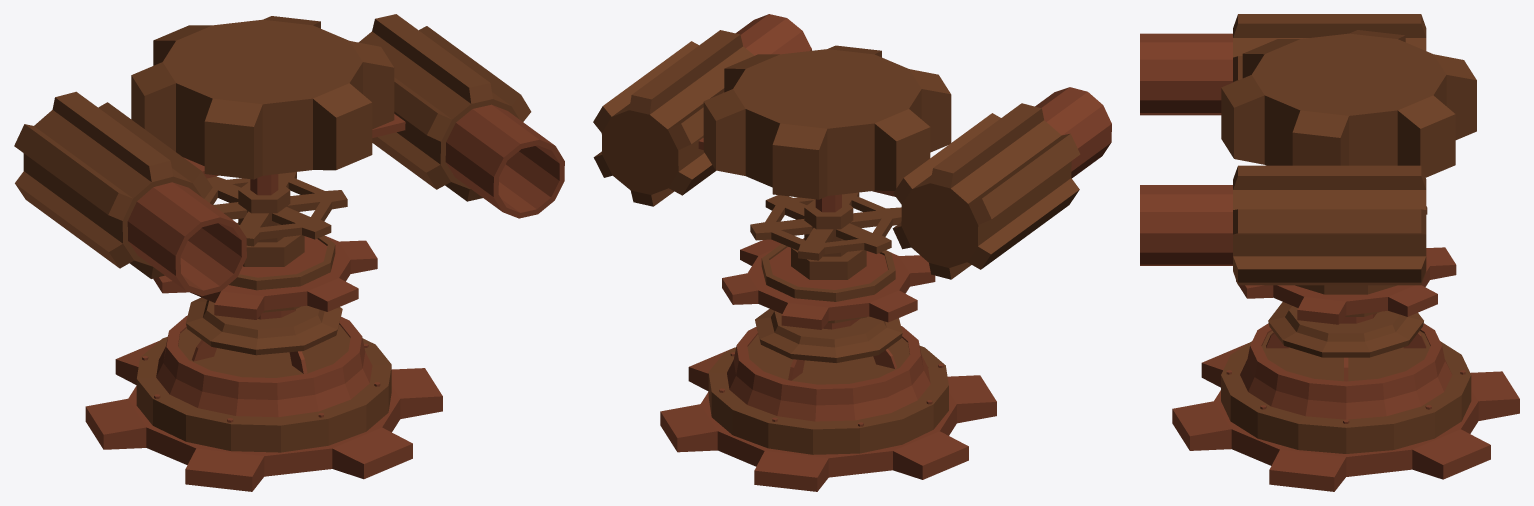
Rendered from GearCannon_1.glb.
3 renders of one model, left to right at view 1: azimuth 30°, elevation 25°; view 2: azimuth 150°, elevation 25°; view 3: azimuth 270°, elevation 25°, orthographic. The views are drawn at different scales.
Parts seen in each view (by area): view 1: GearCannon_1_Gun, GearCannon_1_Base, GearCannon_1_Mid; view 2: GearCannon_1_Gun, GearCannon_1_Base, GearCannon_1_Mid; view 3: GearCannon_1_Gun, GearCannon_1_Base, GearCannon_1_Mid.
Boxes of the visible parts, x1,y1,x2,y2 form: GearCannon_1_Gun: (14,14,564,296); GearCannon_1_Base: (85,236,442,491); GearCannon_1_Mid: (153,172,377,319); GearCannon_1_Gun: (593,14,1111,279); GearCannon_1_Base: (660,244,996,491); GearCannon_1_Mid: (722,192,935,329); GearCannon_1_Gun: (1140,14,1476,285); GearCannon_1_Base: (1172,285,1519,491); GearCannon_1_Mid: (1236,206,1456,324).
Size of the model in its own units: 1.88 by 1.51 by 1.5.
